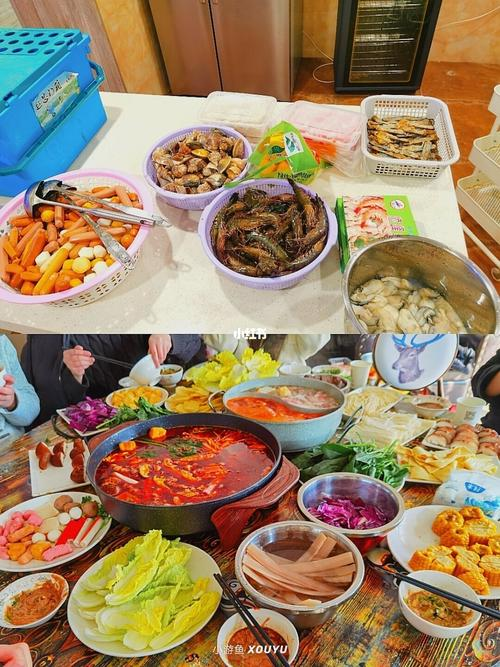food: (85, 407, 281, 528), (68, 526, 219, 655), (0, 181, 151, 305), (198, 170, 335, 292), (337, 236, 494, 340), (390, 494, 498, 599), (143, 114, 251, 212), (1, 487, 115, 572), (224, 369, 346, 445), (294, 469, 403, 546), (360, 92, 455, 179), (391, 415, 500, 478), (392, 566, 480, 638), (3, 569, 70, 628)
